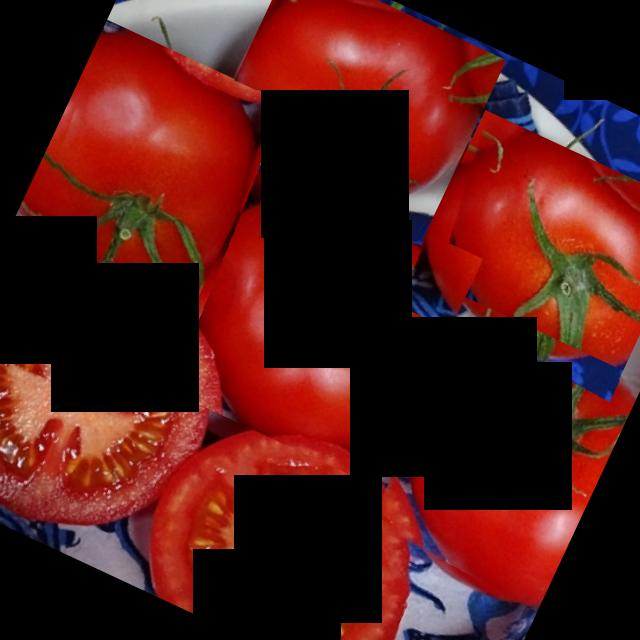tomatoes: (144, 150, 483, 488), (356, 297, 640, 613), (7, 20, 288, 319), (204, 0, 506, 245), (395, 110, 640, 403)
